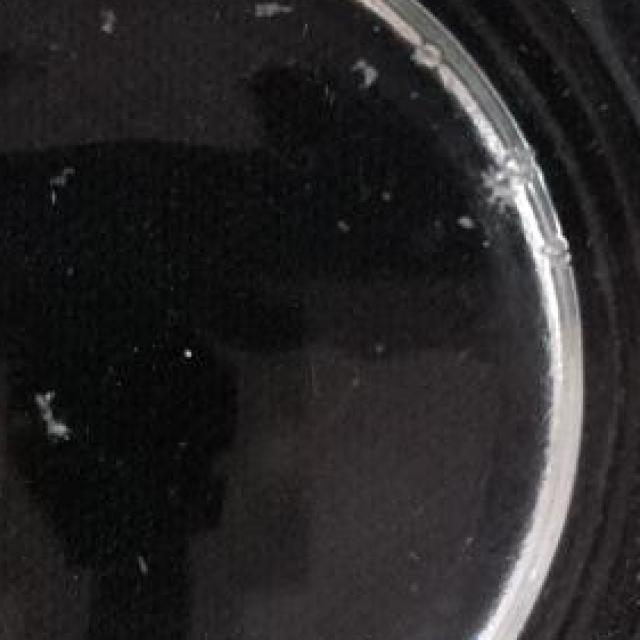Microplastic: (18, 352, 80, 466), (474, 131, 535, 228), (246, 0, 305, 33), (348, 38, 382, 95)
